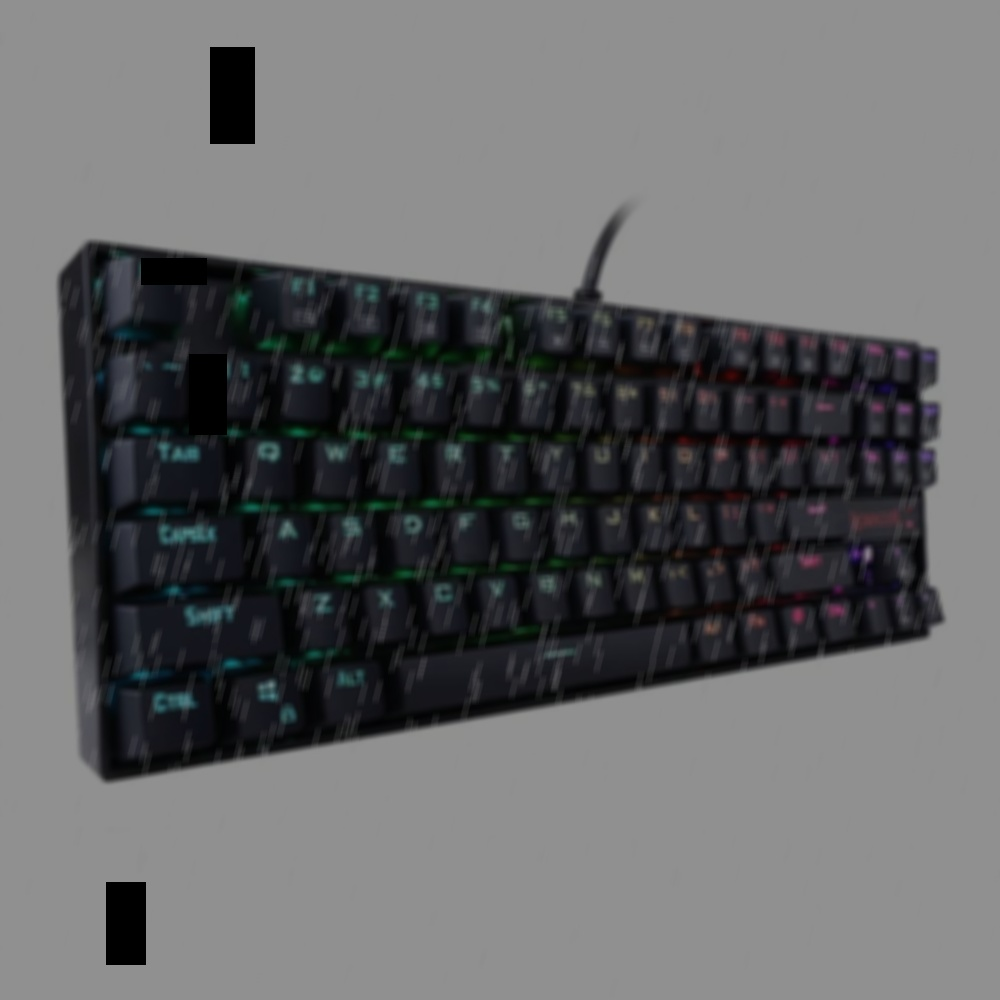-: (278, 520, 298, 539)
0: (697, 391, 715, 405)
0-1-2-3-4-5-6-7-8-9-A-B-C-D-E-F: (141, 361, 183, 375), (736, 391, 754, 409), (669, 565, 689, 581), (769, 394, 789, 410), (758, 502, 776, 518), (706, 562, 725, 577), (722, 505, 739, 519), (821, 450, 839, 463), (750, 450, 766, 464), (742, 559, 759, 572), (783, 451, 798, 465)
1: (220, 361, 250, 380)
2: (288, 366, 321, 384)
3: (354, 371, 387, 389)
4: (415, 373, 444, 390)
5: (471, 377, 499, 393)
6: (522, 381, 546, 397)
7: (571, 383, 595, 398)
8: (617, 386, 638, 401)
9: (659, 389, 679, 403)
A: (336, 669, 366, 688), (704, 621, 721, 634)
ALT: (537, 576, 555, 594)
B: (803, 395, 851, 435)
BACKSPACE: (434, 584, 454, 602)
C: (157, 523, 220, 545)
CAPSLK: (151, 691, 200, 713), (828, 605, 846, 617)
CTRL: (403, 516, 423, 535)
D: (866, 451, 880, 463)
DEL: (897, 597, 903, 606)
DOWN: (388, 445, 408, 463)
E: (894, 451, 908, 462)
END: (787, 500, 847, 537)
ENTER: (136, 260, 180, 287), (678, 449, 692, 463)
ESC: (458, 514, 476, 532)
F: (291, 278, 315, 297)
F1: (768, 334, 786, 347)
F10: (801, 337, 818, 350)
F11: (831, 340, 848, 353)
F12: (355, 284, 380, 302)
F2: (416, 293, 438, 311)
F3: (471, 297, 493, 315)
F4: (547, 307, 566, 323)
F5: (593, 312, 611, 327)
F6: (637, 318, 654, 332)
F7: (678, 322, 694, 336)
F8: (734, 329, 749, 342)
F9: (749, 615, 766, 628)
FN: (511, 513, 531, 529)
G: (561, 511, 578, 527)
H: (898, 404, 913, 414)
HOME: (637, 446, 654, 466)
I: (871, 403, 884, 412)
INS: (606, 508, 622, 526)
J: (647, 507, 664, 525)
K: (85, 245, 928, 784)
KEYBOARD: (686, 504, 704, 520)
L: (868, 601, 876, 609)
LEFT: (629, 568, 645, 584)
M: (792, 609, 804, 623)
MENU: (585, 571, 603, 588)
O: (713, 449, 730, 465)
P: (922, 352, 936, 361)
PAUSE: (920, 451, 934, 462)
PGDN: (923, 405, 937, 415)
PGUP: (868, 344, 884, 355)
PRTSC: (258, 443, 280, 463)
Q: (444, 444, 464, 463)
R: (923, 594, 929, 600)
RIGHT: (342, 517, 363, 536)
S: (896, 349, 910, 359)
SCRLK: (182, 606, 237, 628), (800, 555, 823, 568)
SHIFT: (398, 622, 691, 712)
SPACE: (497, 445, 517, 463)
T: (155, 444, 204, 463)
TAB: (594, 446, 611, 464)
U: (894, 547, 900, 557)
UP: (487, 579, 509, 599)
V: (324, 443, 347, 462)
W: (257, 679, 278, 701)
WIN: (377, 590, 395, 608)
X: (547, 446, 565, 463)
Y: (312, 594, 334, 614)
